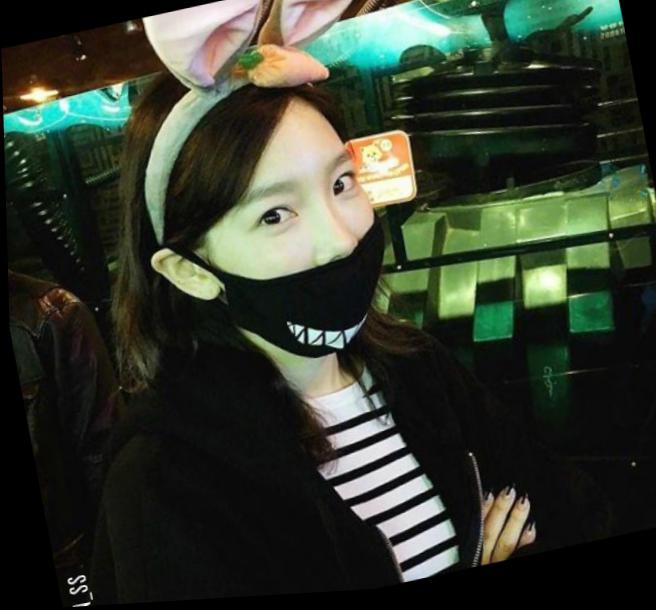WRONG: (211, 136, 402, 378)
